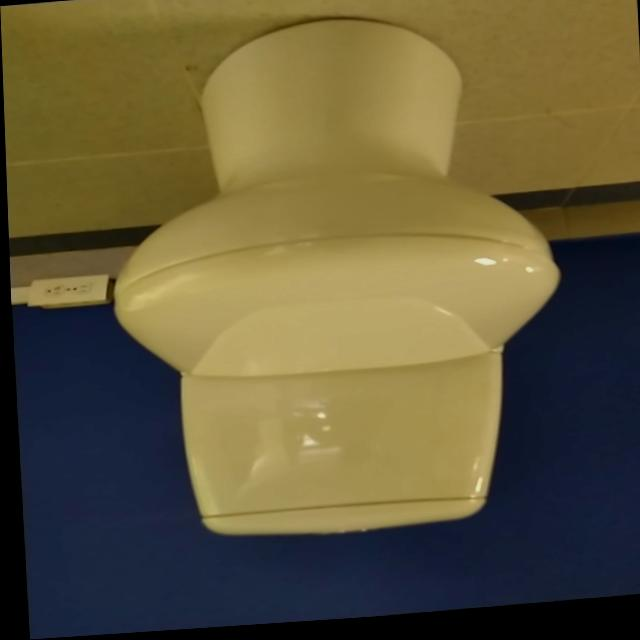toilet: (98, 8, 570, 554)
